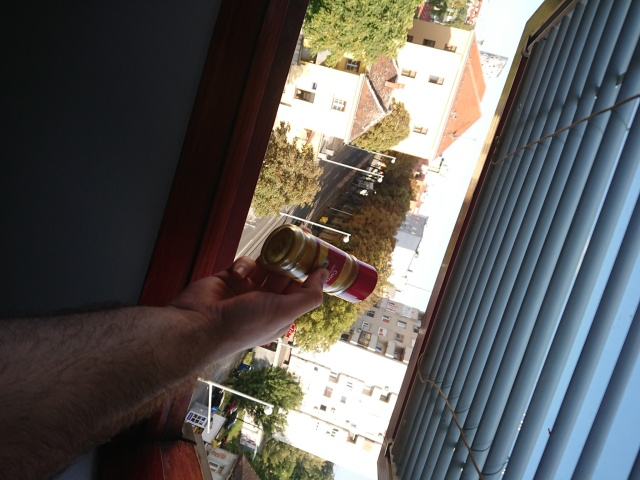Kotanyi Curry Spices Mix 70g: (258, 221, 380, 305)
